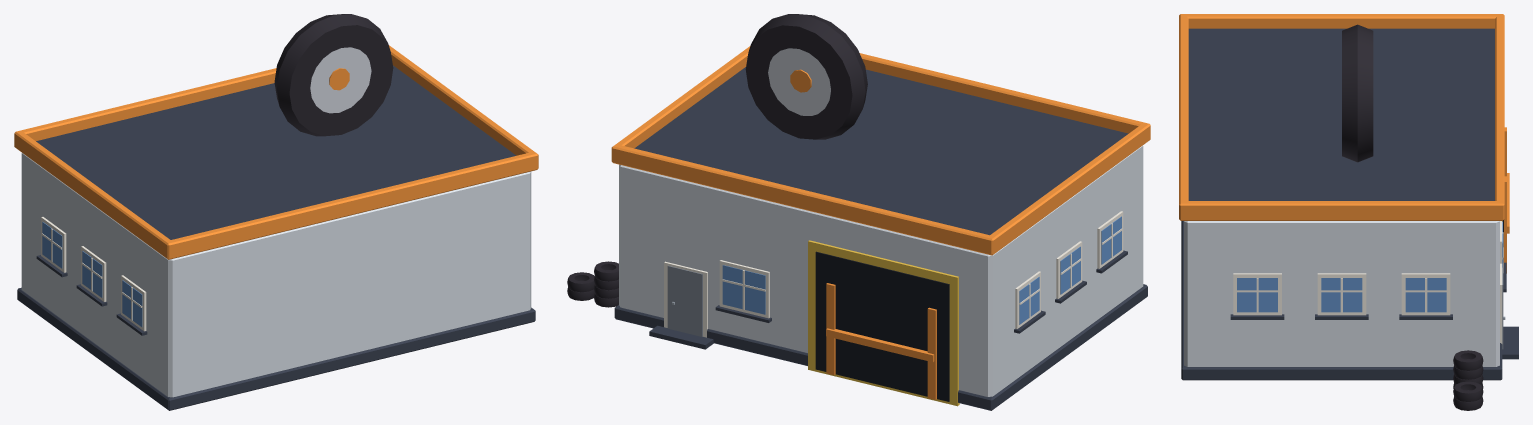
File: bld_tires.glb
The picture shows the model from 3 angles, left to right: view 1: azimuth 30°, elevation 25°; view 2: azimuth 150°, elevation 25°; view 3: azimuth 270°, elevation 25°; orthographic projection. The views are drawn at different scales.
Parts seen in each view (by area): view 1: bld_tires; view 2: bld_tires; view 3: bld_tires.
Part boxes in pixels (x1,y1,x2,y2): bld_tires: [14, 14, 538, 410]; bld_tires: [567, 14, 1150, 410]; bld_tires: [1179, 14, 1518, 410].
Size of the model in its own units: 16.59 by 10.2 by 10.75.
